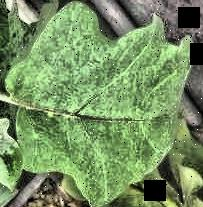HEALTHY: (0, 1, 203, 207)
